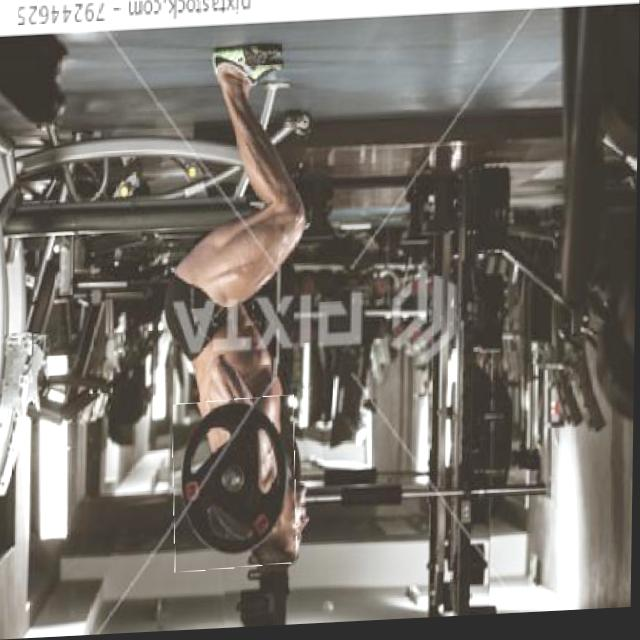barbell: (174, 399, 300, 575)
